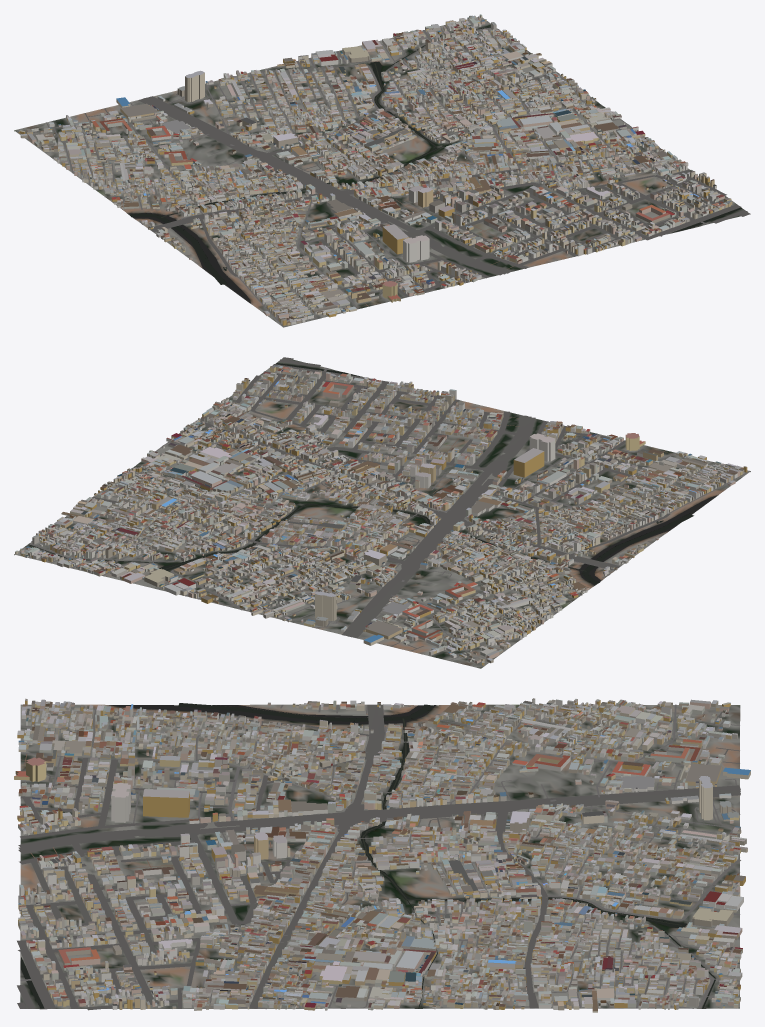
3 views of the same model, one above another, from view 1: azimuth 30°, elevation 25°; view 2: azimuth 150°, elevation 25°; view 3: azimuth 270°, elevation 25° (orthographic). The views are drawn at different scales.
Visible parts, largest first — view 1: buildings, ground, roads, water; view 2: buildings, ground, roads, water; view 3: buildings, ground, roads, water.
Boxes of the visible parts, left/top/right/bottom form: buildings: left=18, top=14, right=732, bottom=325; ground: left=14, top=17, right=750, bottom=327; roads: left=33, top=19, right=750, bottom=327; water: left=128, top=27, right=741, bottom=303; buildings: left=15, top=365, right=747, bottom=665; ground: left=14, top=358, right=750, bottom=668; roads: left=22, top=357, right=750, bottom=660; water: left=28, top=363, right=716, bottom=585; buildings: left=14, top=698, right=750, bottom=1012; ground: left=20, top=704, right=740, bottom=1009; roads: left=17, top=704, right=740, bottom=1010; water: left=21, top=703, right=715, bottom=1008.
Size of the model in its own units: 1427 by 73.48 by 1435.
